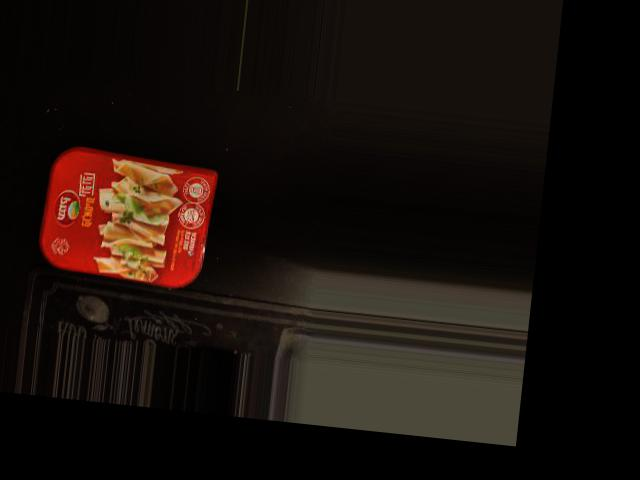cheese: (41, 150, 214, 283)
